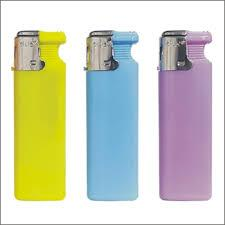lighter: (11, 31, 68, 204), (156, 28, 213, 200), (86, 30, 138, 202)
